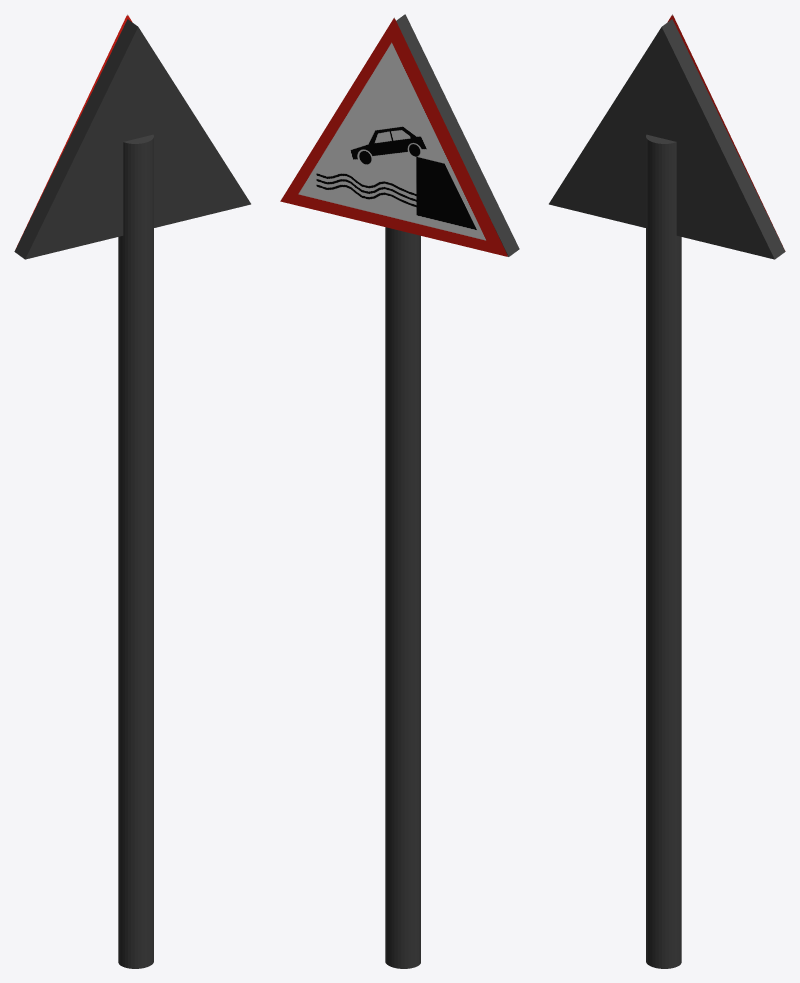
Rendered from signalisation_berge.obj.
3 views of the same model, side by side, from view 1: azimuth 30°, elevation 25°; view 2: azimuth 150°, elevation 25°; view 3: azimuth 330°, elevation 25° (orthographic).
Visible parts, largest first — view 1: Cylinder, Plane.001_Plane.002; view 2: Cylinder, Plane_Plane.001, Plane.001_Plane.002; view 3: Cylinder, Plane.001_Plane.002.
Part boxes in pixels (x1,y1,x2,y2): Cylinder: (118,134,153,968); Plane.001_Plane.002: (14,19,250,259); Cylinder: (385,227,420,968); Plane_Plane.001: (280,17,508,256); Plane.001_Plane.002: (396,14,519,256); Cylinder: (646,134,681,968); Plane.001_Plane.002: (549,19,785,259).
Bounding box in the file's own units: 0.9179 × 3.65 × 0.1213.
